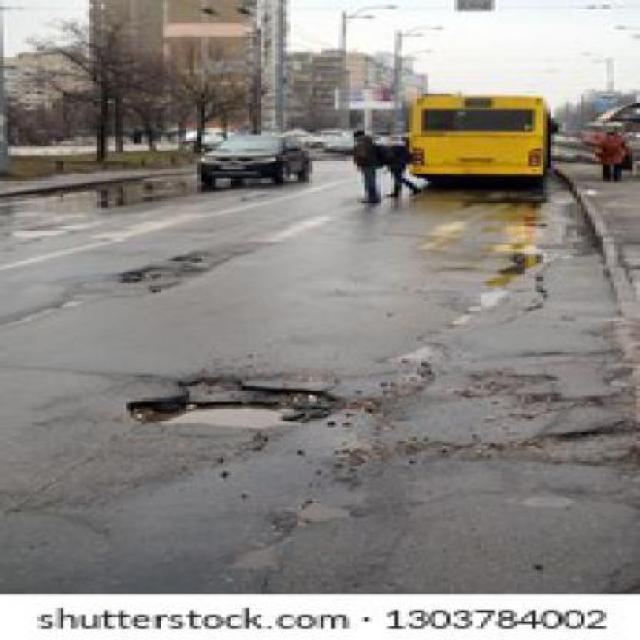Pothole: (125, 375, 344, 431)
